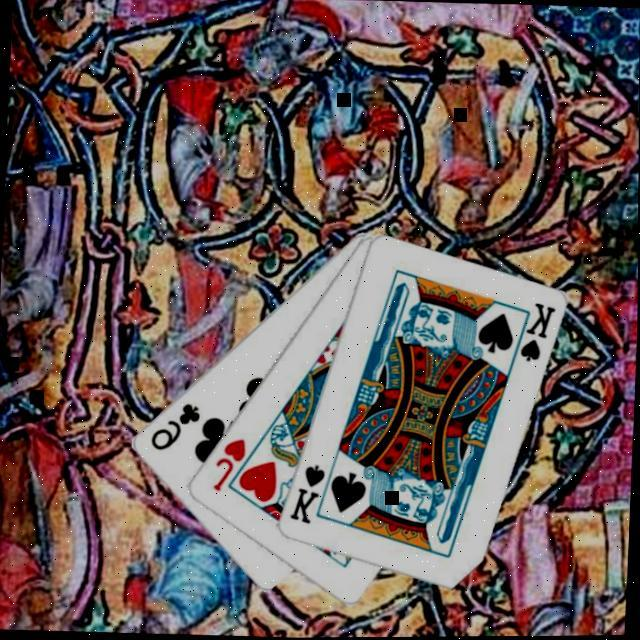9C: (144, 399, 201, 455)
JH: (208, 436, 246, 496)
KS: (506, 300, 556, 368), (284, 462, 326, 528)
